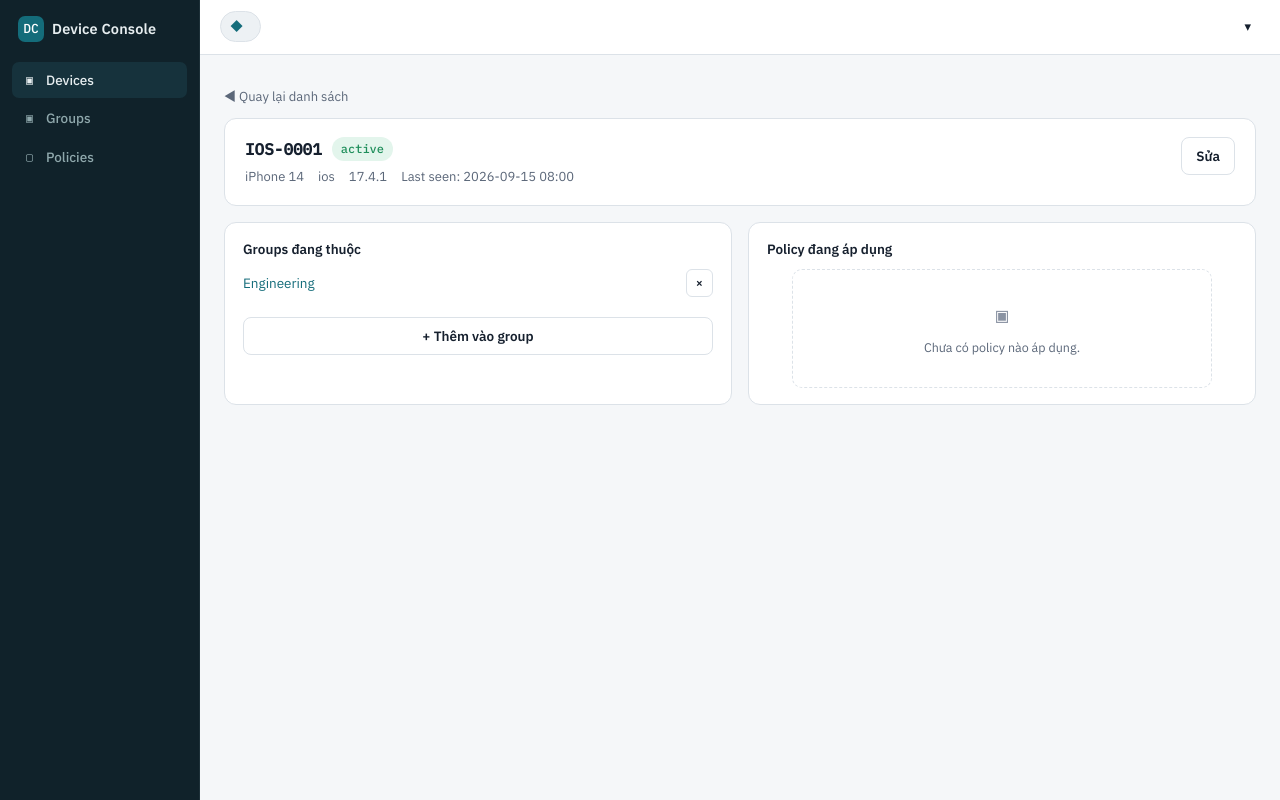
Test: DeviceDetailView › groups block (F6) › asks for confirmation before removing, then removes and refetches on 204
Click the button with test id "device-detail-group-remove-button" at (699, 283), box [686,269,713,297]
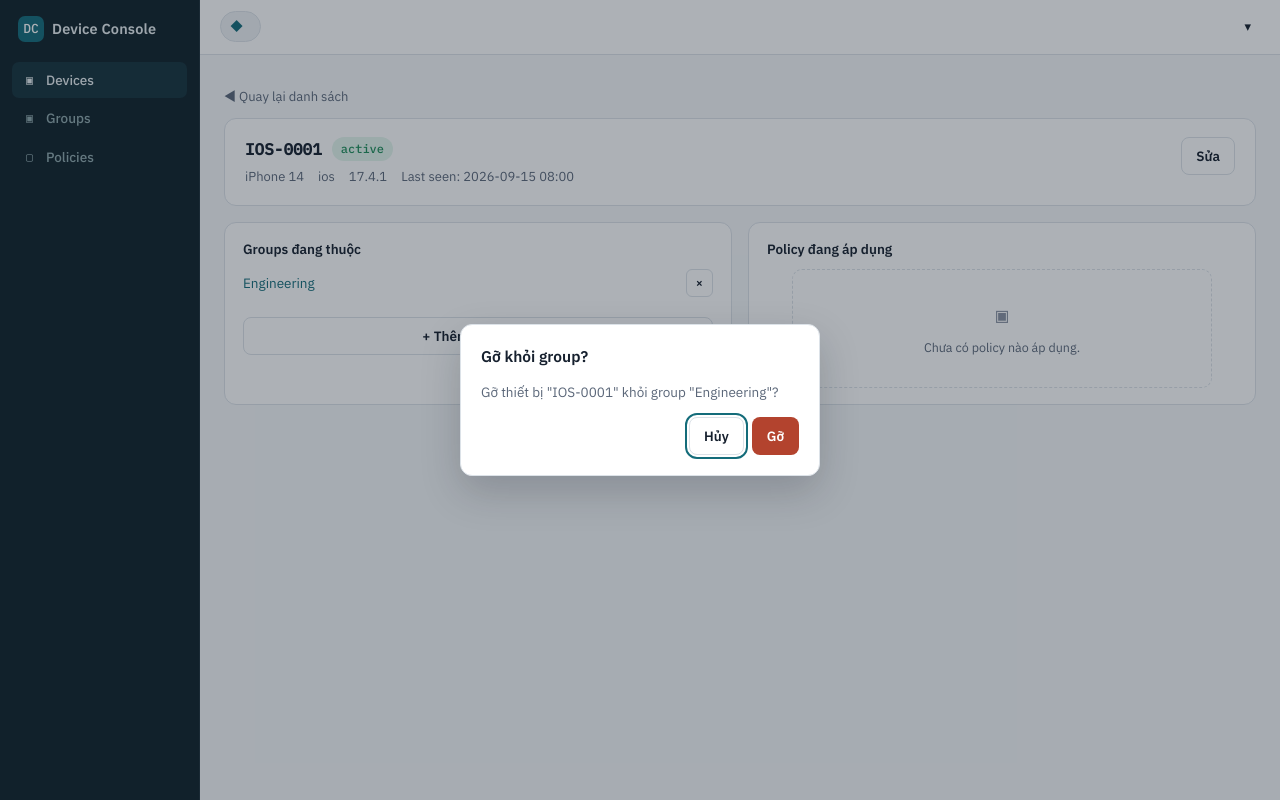
Now the dialog with test id "confirm-modal" shows "IOS-0001", box [481,383,778,401]
Now the dialog with test id "confirm-modal" shows "Engineering", box [481,383,778,401]
Click the button with test id "confirm-modal-confirm" at (775, 436), box [752,417,799,455]
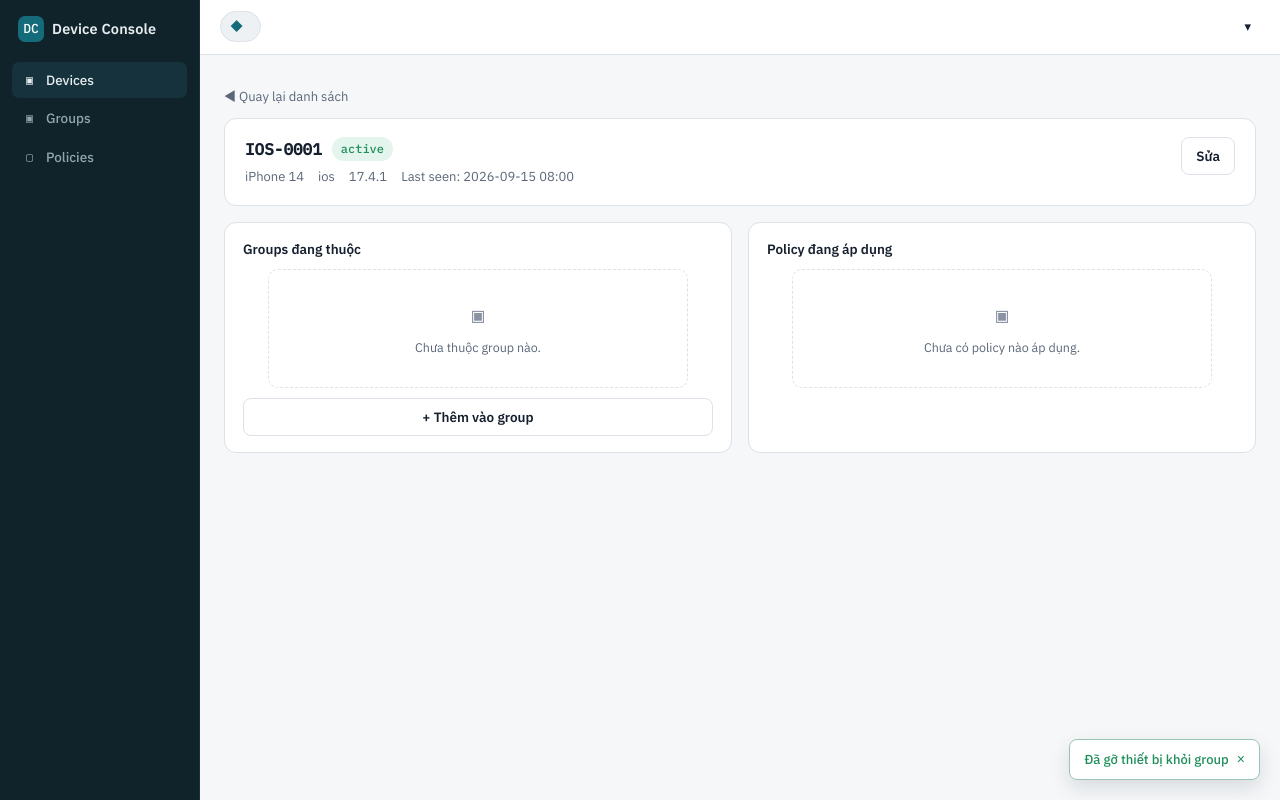
Now the element with test id "toast" shows "Đã gỡ thiết bị khỏi group", box [1084,750,1229,768]
Now the element with test id "device-detail-groups-empty" is shown, box [243,269,713,388]
